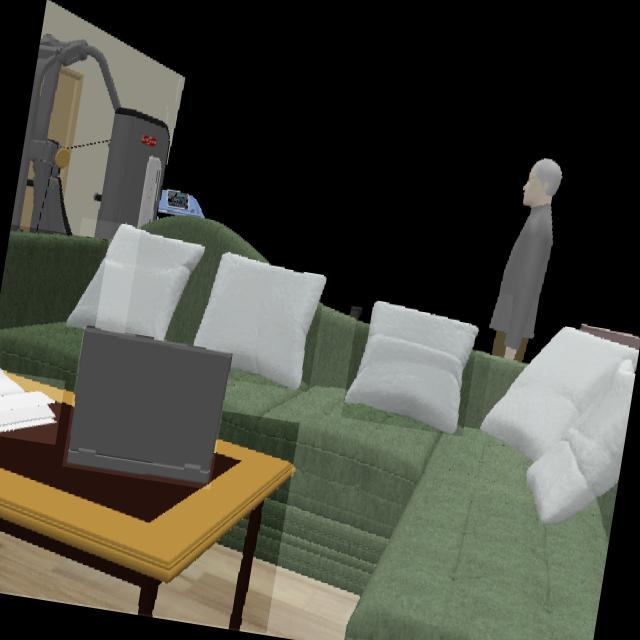book: (0, 373, 59, 436)
laptop: (66, 329, 231, 488)
person: (489, 159, 563, 363)
pillow: (480, 326, 640, 512), (344, 301, 480, 434), (193, 254, 326, 389), (65, 224, 206, 341)
sofa: (218, 307, 617, 640), (0, 233, 109, 393), (141, 216, 266, 346)
table: (0, 377, 291, 630)
